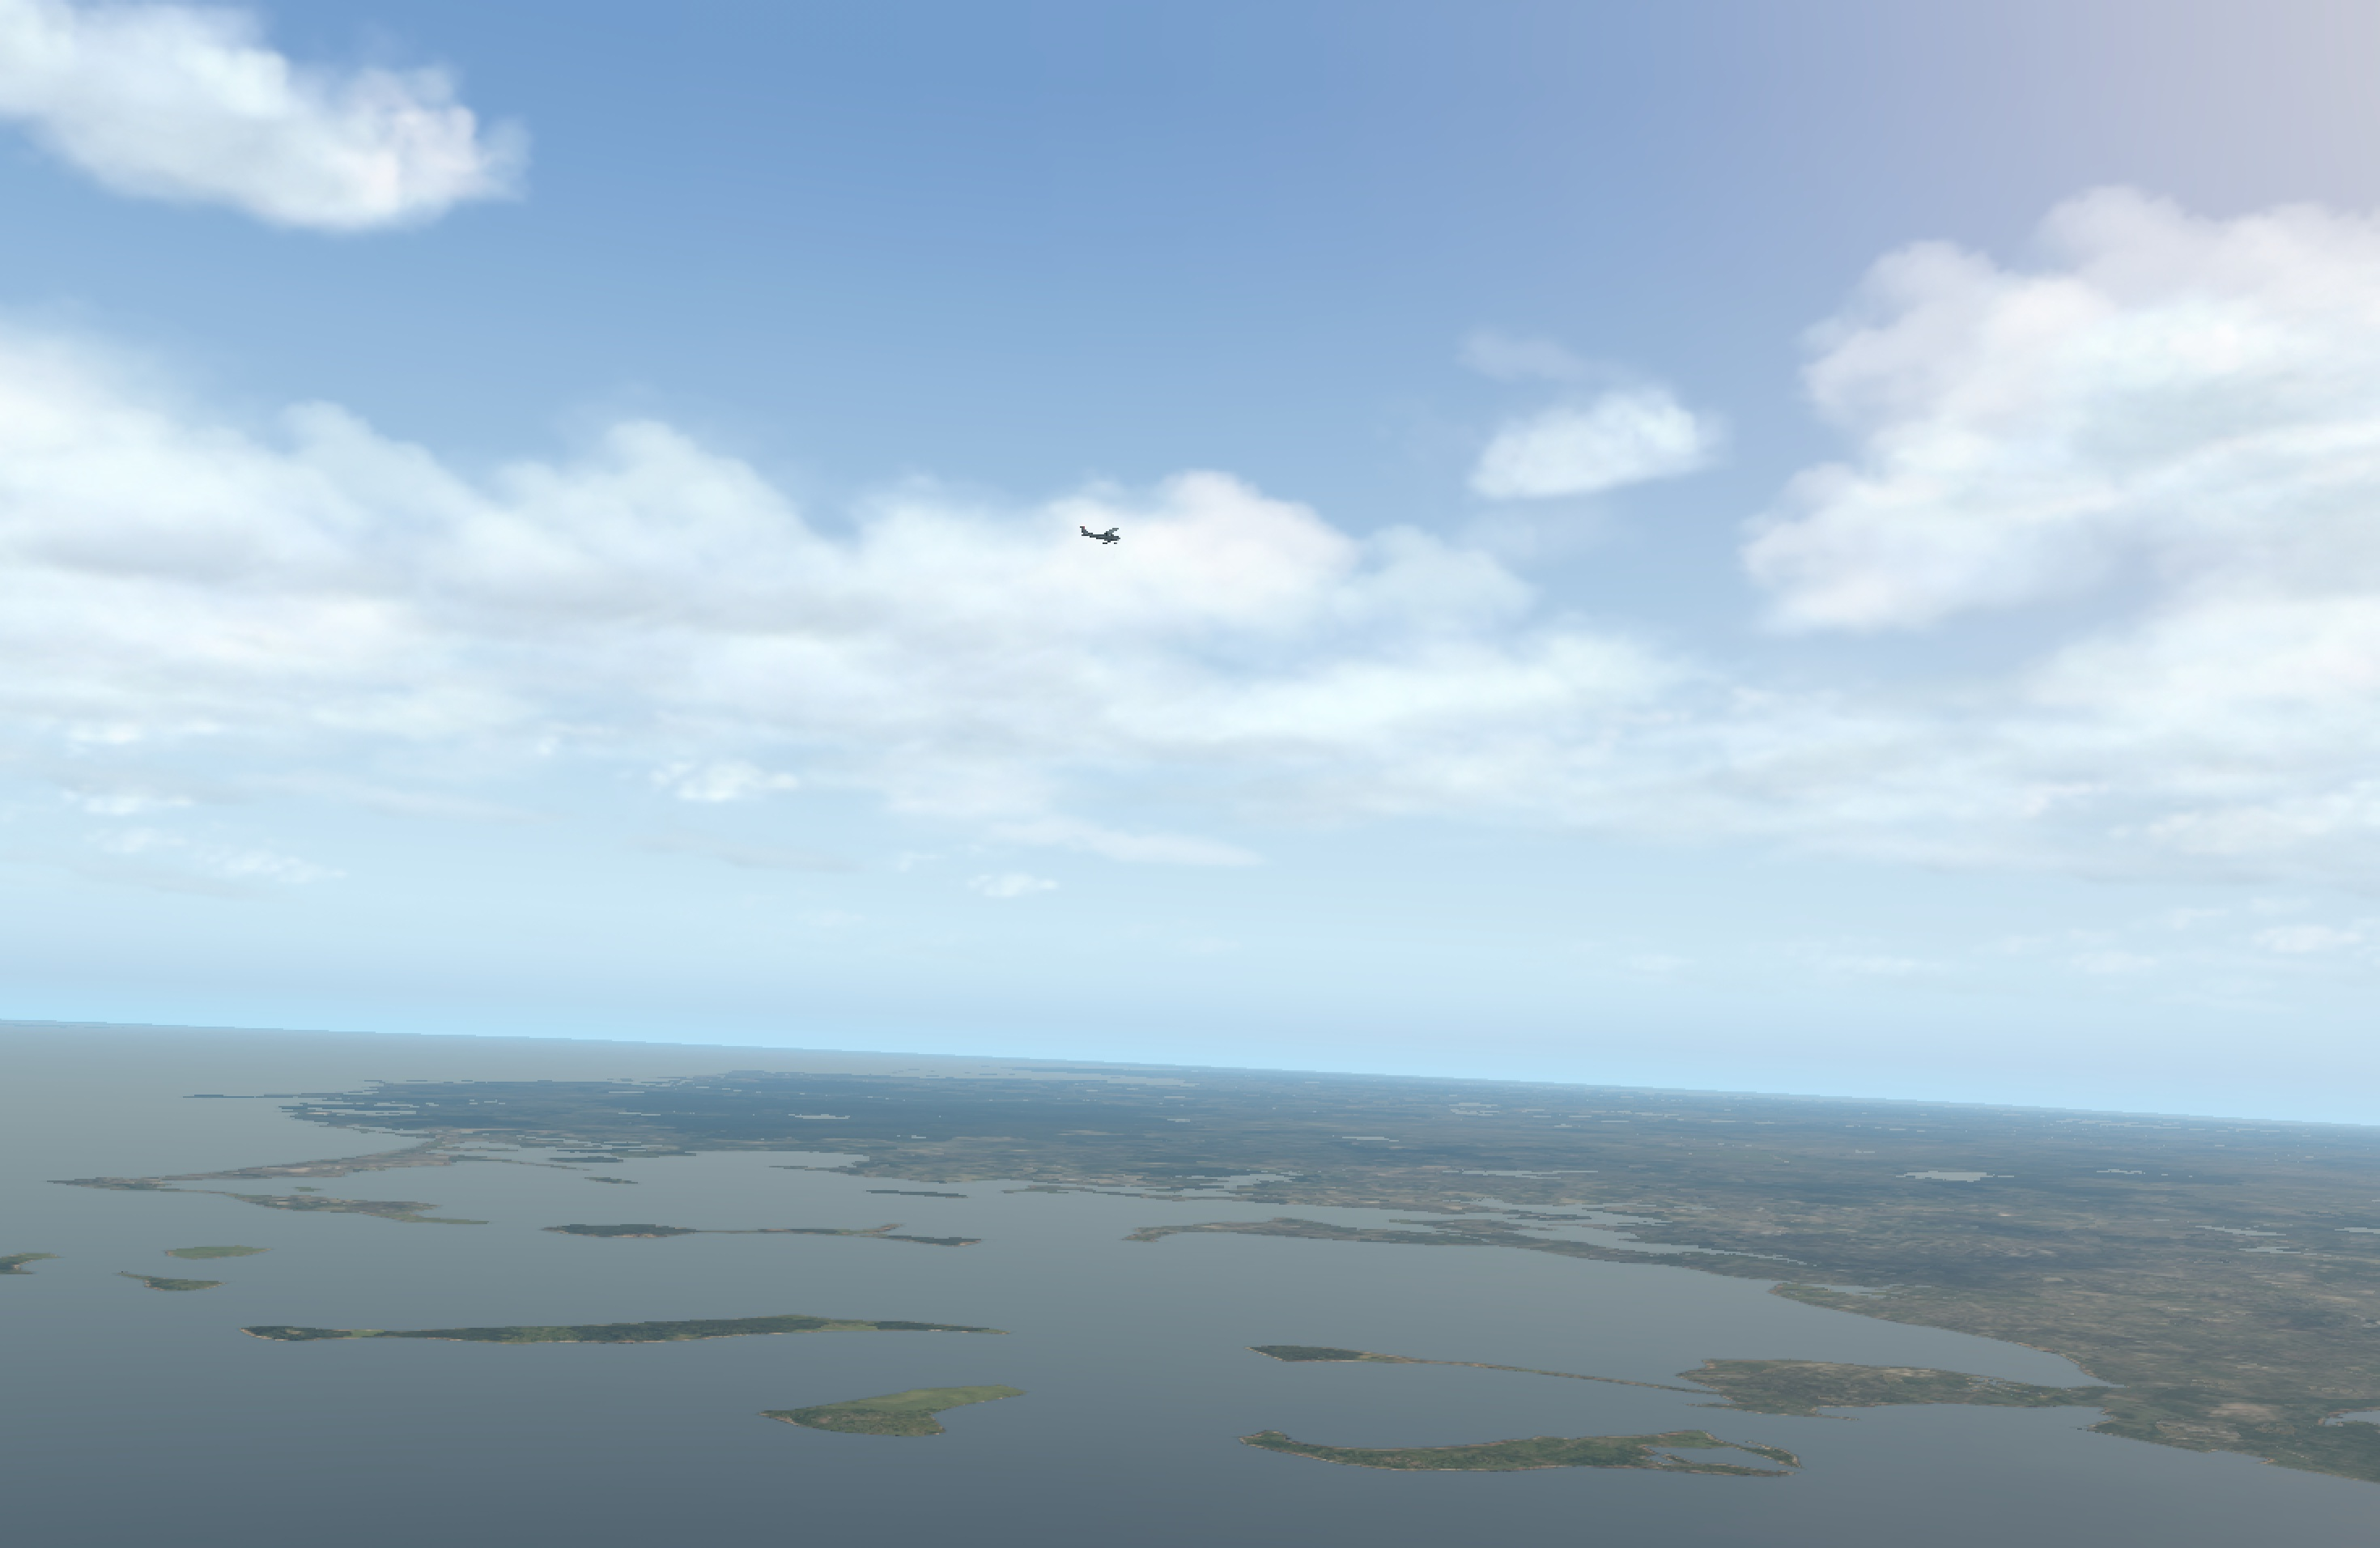aircraft: (1089, 529, 1129, 545)
